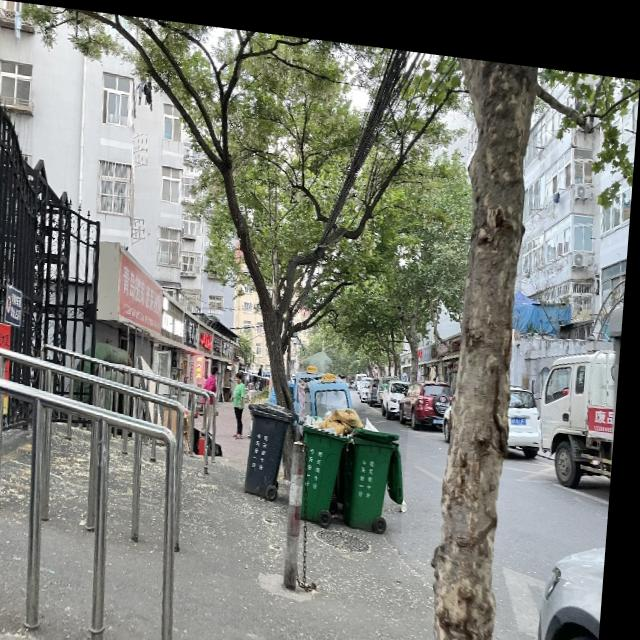garbage_bin: (247, 392, 299, 489)
overflow: (302, 393, 371, 517), (350, 404, 415, 521)
